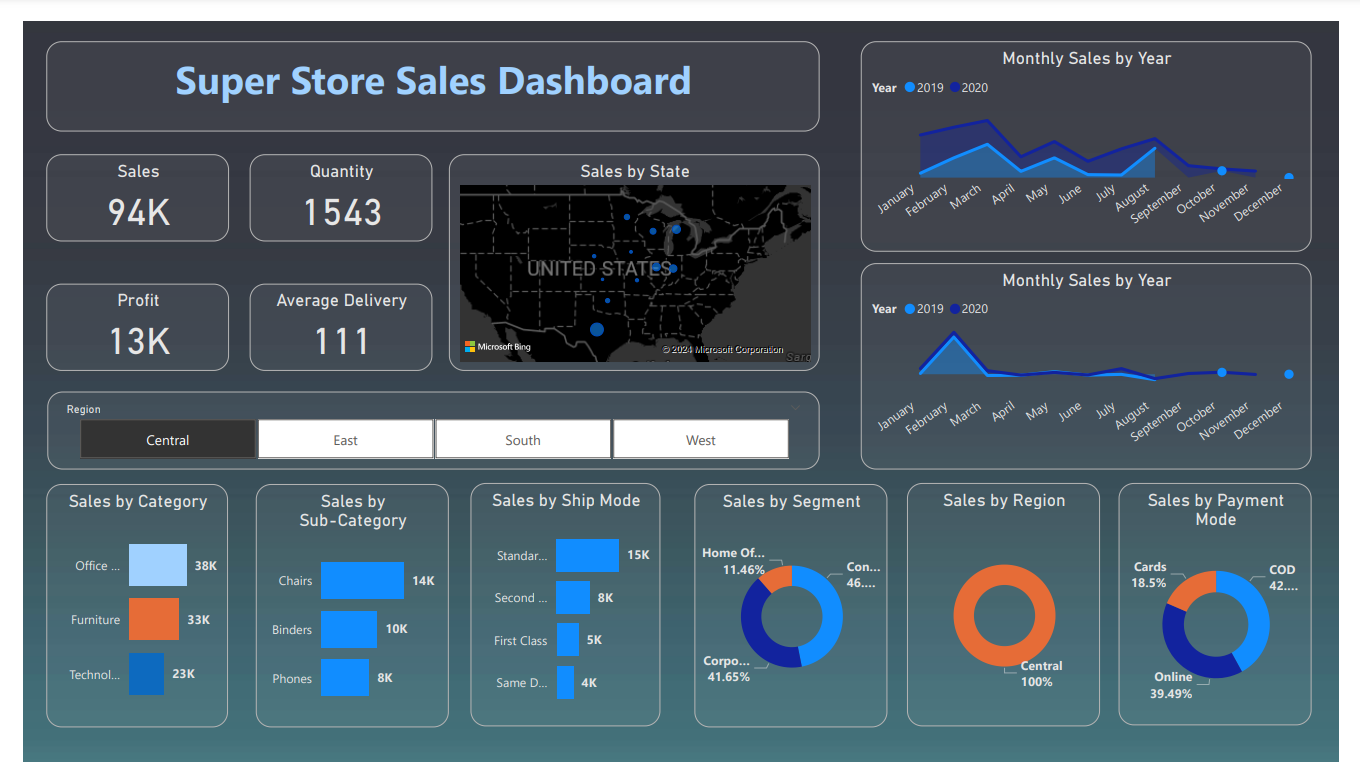

Layout of this report page (visuals, bound fields, positions):
{"tool":"powerbi","page":{"name":"Sales Dashboard","canvas":[1280,720],"ordinal":0},"visuals":[{"type":"clusteredBarChart","title":"Sales by Category","fields":{"Category":["SuperStore_Sales_Dataset (2).Category"],"Y":["Sum(SuperStore_Sales_Dataset (2).Sales)"]},"box":[22,450.1,177,237.4],"z":0},{"type":"clusteredBarChart","title":"Sales by Sub-Category","fields":{"Category":["SuperStore_Sales_Dataset (2).Sub-Category"],"Y":["Sum(SuperStore_Sales_Dataset (2).Sales)"]},"box":[226.4,450.1,188,237.4],"z":1000},{"type":"clusteredBarChart","title":"Sales by Ship Mode","fields":{"Category":["SuperStore_Sales_Dataset (2).Ship Mode"],"Y":["Sum(SuperStore_Sales_Dataset (2).Sales)"]},"box":[435,448.7,185.2,237.4],"z":2000},{"type":"stackedAreaChart","title":"Monthly Sales by Year","fields":{"Y":["Sum(SuperStore_Sales_Dataset (2).Sales)"],"Category":["SuperStore_Sales_Dataset (2).Order Date.Variation.Date Hierarchy.Month","SuperStore_Sales_Dataset (2).Order Date.Variation.Date Hierarchy.Day"],"Series":["SuperStore_Sales_Dataset (2).Order Date.Variation.Date Hierarchy.Year"]},"box":[815.1,19.2,439.1,204.5],"z":3000},{"type":"stackedAreaChart","title":"Monthly Profit by Year","fields":{"Category":["SuperStore_Sales_Dataset (2).Order Date.Variation.Date Hierarchy.Month","SuperStore_Sales_Dataset (2).Order Date.Variation.Date Hierarchy.Day"],"Series":["SuperStore_Sales_Dataset (2).Order Date.Variation.Date Hierarchy.Year"],"Y":["Sum(SuperStore_Sales_Dataset (2).Profit)"]},"box":[815.1,234.6,439.1,201.7],"z":4000},{"type":"map","title":"Sales by State","fields":{"Size":["Sum(SuperStore_Sales_Dataset (2).Sales)"],"Category":["SuperStore_Sales_Dataset (2).State"]},"box":[414.4,129,360.9,211.3],"z":5000},{"type":"donutChart","title":"Sales by Segment","fields":{"Category":["SuperStore_Sales_Dataset (2).Segment"],"Y":["Sum(SuperStore_Sales_Dataset (2).Sales)"]},"box":[653.2,450.1,188,237.4],"z":6000},{"type":"donutChart","title":"Sales by Region","fields":{"Category":["SuperStore_Sales_Dataset (2).Region"],"Y":["Sum(SuperStore_Sales_Dataset (2).Sales)"]},"box":[860.4,448.7,188,237.4],"z":7000},{"type":"donutChart","title":"Sales by Payment Mode","fields":{"Category":["SuperStore_Sales_Dataset (2).Payment Mode"],"Y":["Sum(SuperStore_Sales_Dataset (2).Sales)"]},"box":[1066.2,448.7,188,236],"z":8000},{"type":"slicer","fields":{"Values":["SuperStore_Sales_Dataset (2).Region"]},"box":[23.3,359.5,752,76.8],"z":9000},{"type":"textbox","box":[22,19.2,753.3,87.8],"z":10000},{"type":"card","title":"Sales","fields":{"Values":["Sum(SuperStore_Sales_Dataset (2).Sales)"]},"box":[22,129,178.4,85.1],"z":11000},{"type":"card","title":"Average Delivery","fields":{"Values":["Avg(SuperStore_Sales_Dataset (2).AvgDelivery)"]},"box":[219.6,255.2,178.4,85.1],"z":12000},{"type":"card","title":"Profit","fields":{"Values":["Sum(SuperStore_Sales_Dataset (2).Profit)"]},"box":[22,255.2,178.4,85.1],"z":13000},{"type":"card","title":"Quantity","fields":{"Values":["Sum(SuperStore_Sales_Dataset (2).Quantity)"]},"box":[219.6,129,178.4,85.1],"z":14000}]}

Visuals, with their boxes in screenshot pixels (x1, y1, x2, y2), scaled from the page's 1280x720 canvas onto the 1360x781 screenshot:
"Sales by Category" clusteredBarChart: 23:488:211:746
"Sales by Sub-Category" clusteredBarChart: 241:488:440:746
"Sales by Ship Mode" clusteredBarChart: 462:487:659:744
"Monthly Sales by Year" stackedAreaChart: 866:21:1333:243
"Monthly Profit by Year" stackedAreaChart: 866:254:1333:473
"Sales by State" map: 440:140:824:369
"Sales by Segment" donutChart: 694:488:894:746
"Sales by Region" donutChart: 914:487:1114:744
"Sales by Payment Mode" donutChart: 1133:487:1333:743
slicer - SuperStore_Sales_Dataset (2).Region: 25:390:824:473
textbox: 23:21:824:116
"Sales" card: 23:140:213:232
"Average Delivery" card: 233:277:423:369
"Profit" card: 23:277:213:369
"Quantity" card: 233:140:423:232
